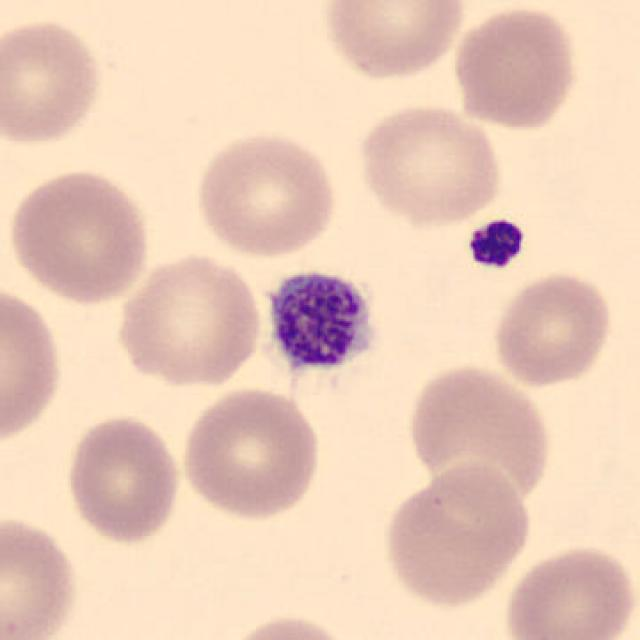Platelets: (258, 261, 384, 388), (464, 217, 530, 271)
RBC: (379, 457, 535, 610), (404, 360, 554, 511), (110, 248, 265, 389), (4, 164, 154, 307), (176, 384, 324, 524), (190, 127, 343, 259), (354, 101, 506, 229), (448, 2, 583, 132), (60, 411, 185, 546), (487, 266, 617, 390), (0, 14, 107, 150), (500, 541, 638, 640), (317, 0, 471, 83), (0, 278, 68, 452), (0, 509, 82, 640), (219, 610, 361, 640)
